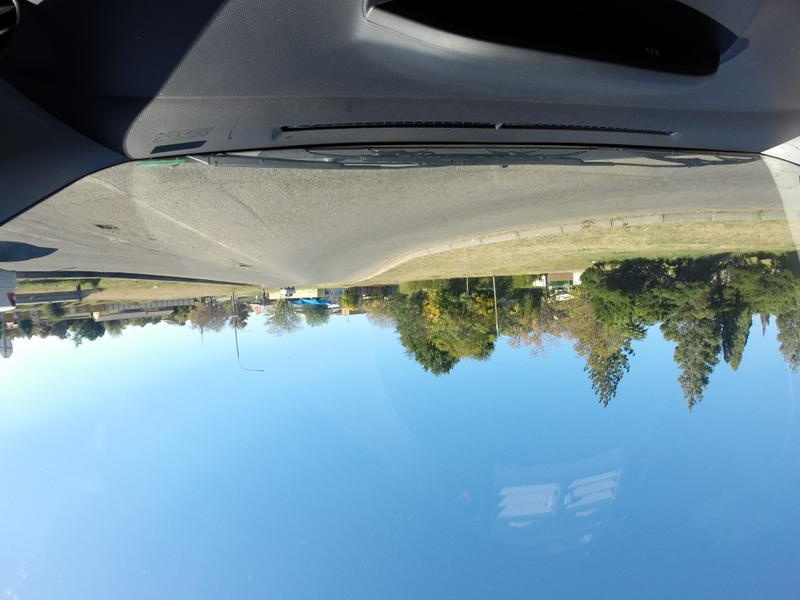pothole: (84, 215, 121, 237), (224, 256, 256, 273)
